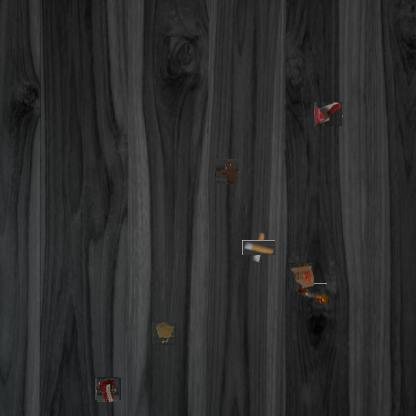dirty: (296, 283, 327, 306), (288, 263, 314, 289), (314, 102, 342, 126), (96, 377, 120, 401), (246, 236, 270, 259)
liquid: (215, 160, 239, 184), (152, 322, 176, 344)
